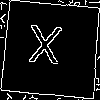X: (25, 25, 64, 74)
